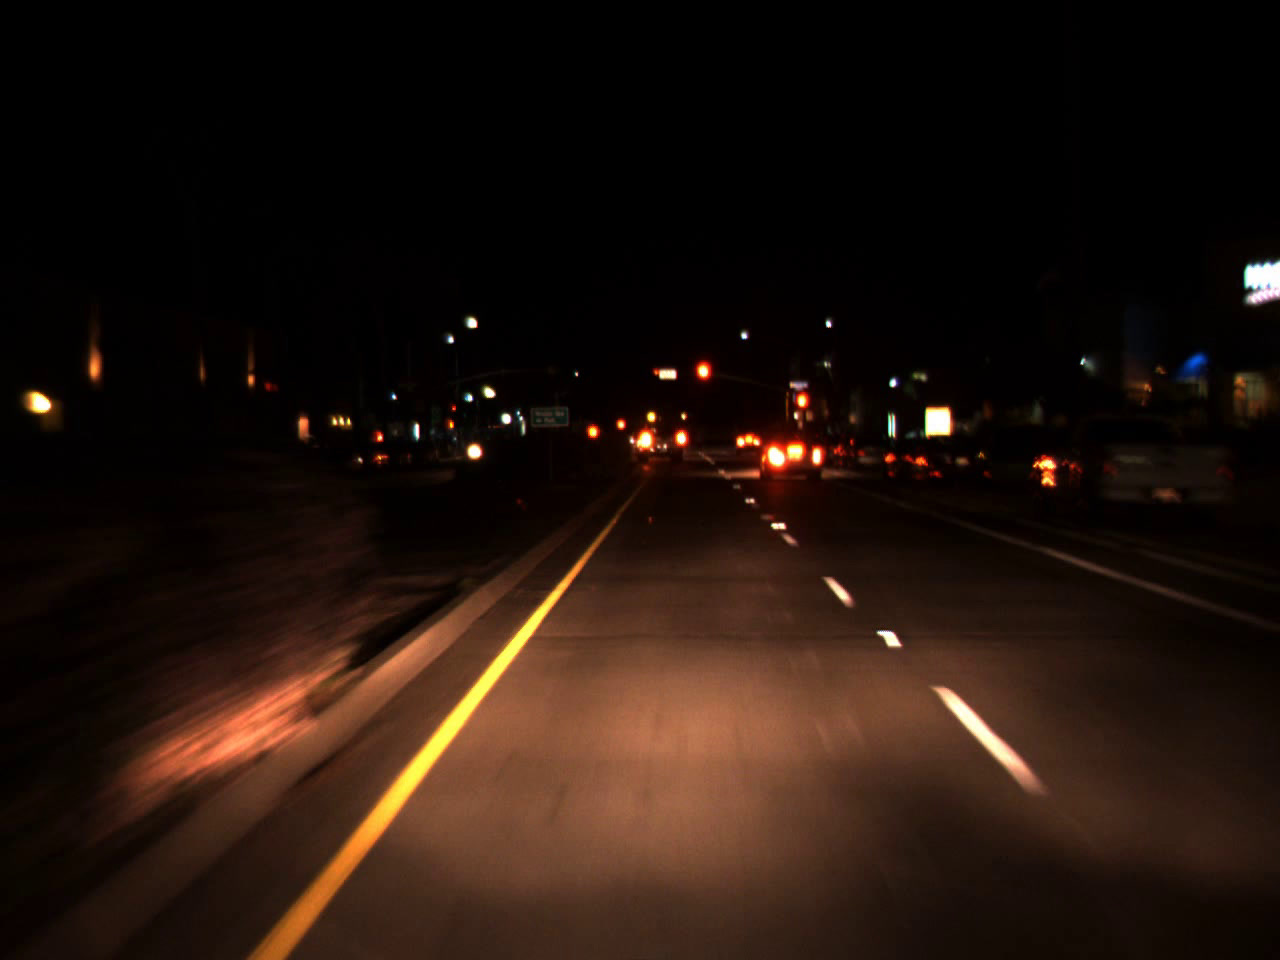stop: (693, 359, 712, 402), (793, 388, 811, 431), (653, 369, 660, 379)
